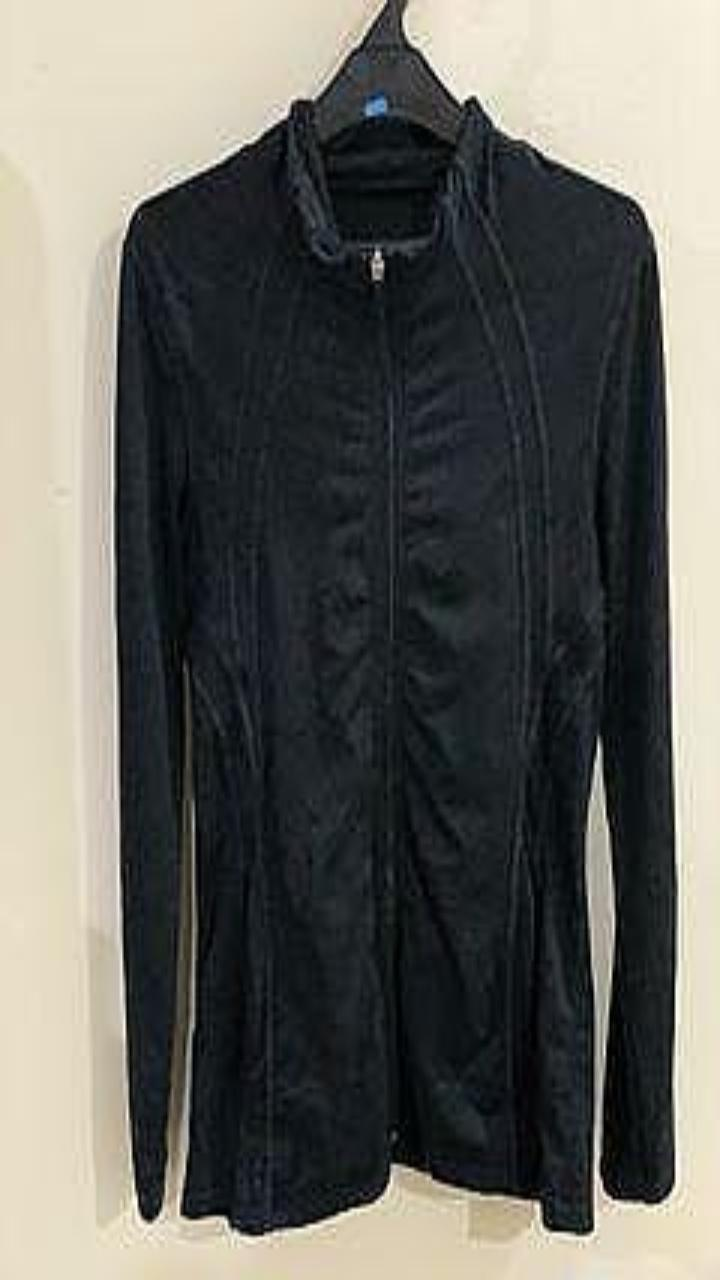Sports_Jacket: (114, 95, 675, 1232)
